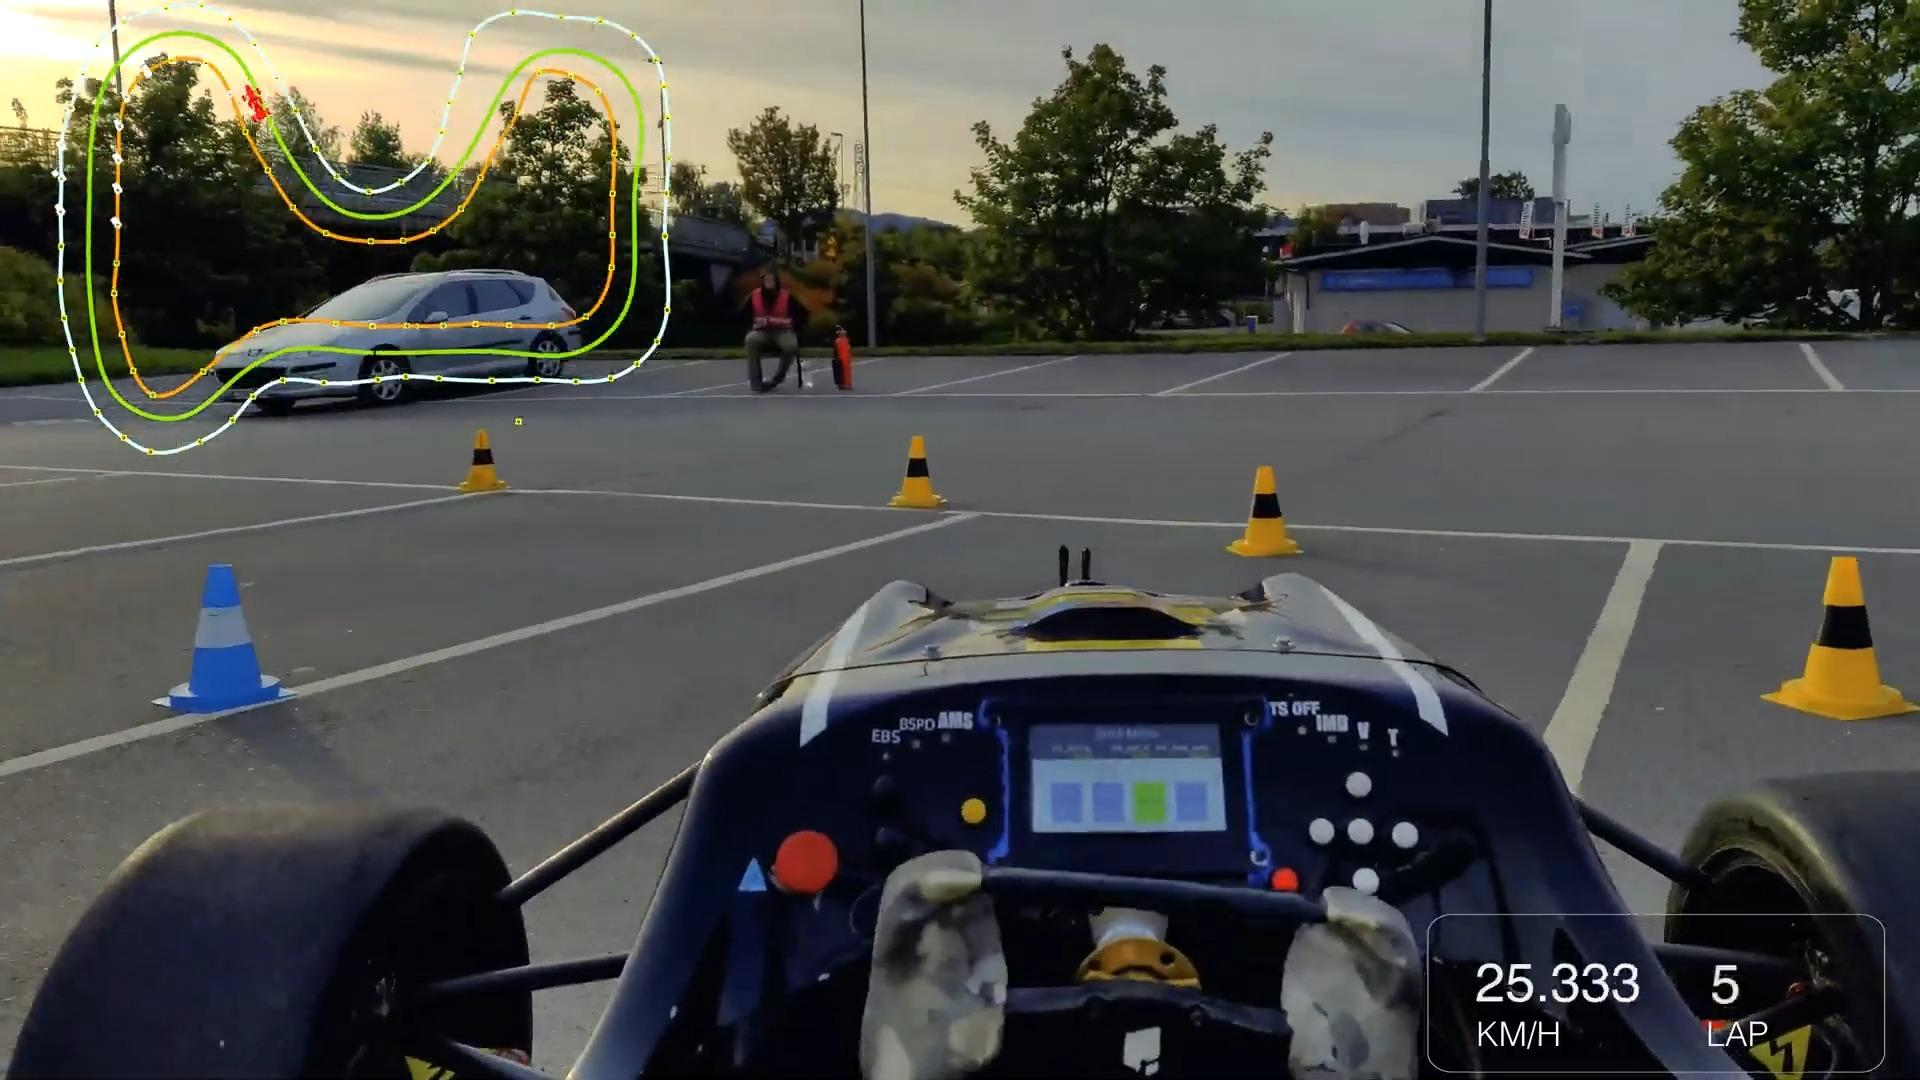blue_cone: (163, 560, 295, 717)
yellow_cone: (1758, 537, 1920, 734), (1228, 457, 1306, 561), (892, 430, 946, 514), (453, 420, 508, 494)
